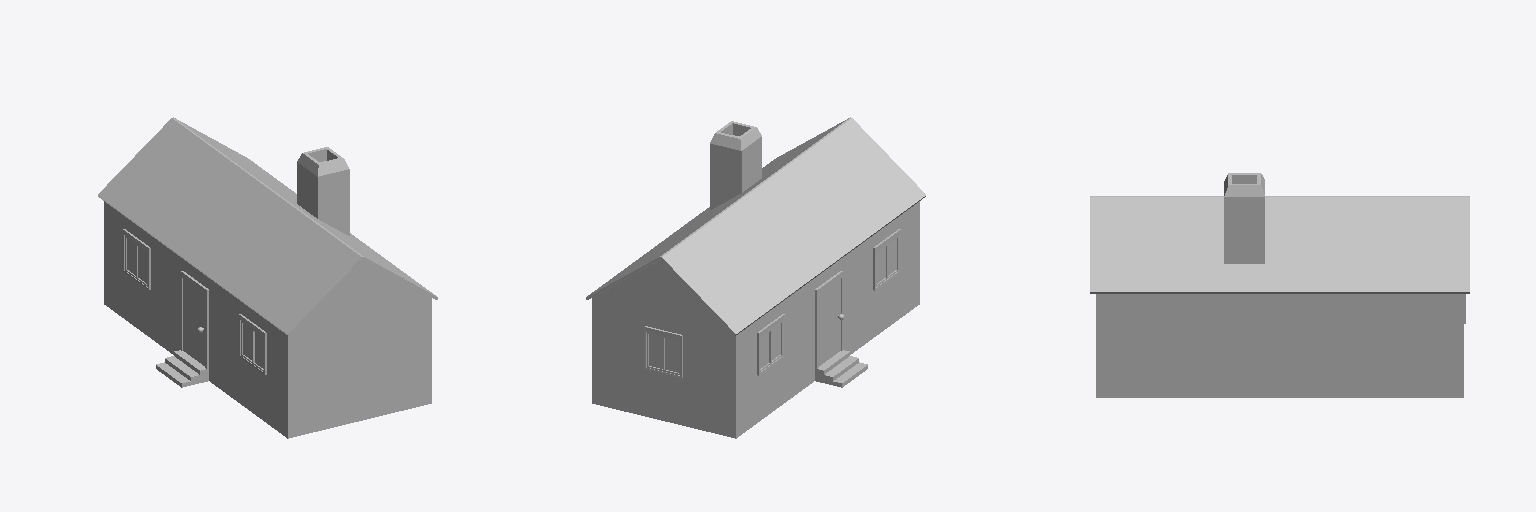
File: house_rundown.obj
3 views of the same model, side by side, from view 1: azimuth 30°, elevation 25°; view 2: azimuth 150°, elevation 25°; view 3: azimuth 270°, elevation 25° (orthographic).
Visible parts, largest first — view 1: Cube; view 2: Cube; view 3: Cube.
Boxes of the visible parts, box(x1,y1,x2,y2) form: Cube: box(98, 117, 437, 438); Cube: box(586, 117, 925, 438); Cube: box(1090, 173, 1469, 397).
Bounding box in the file's own units: 5.74 × 6.33 × 10.83.